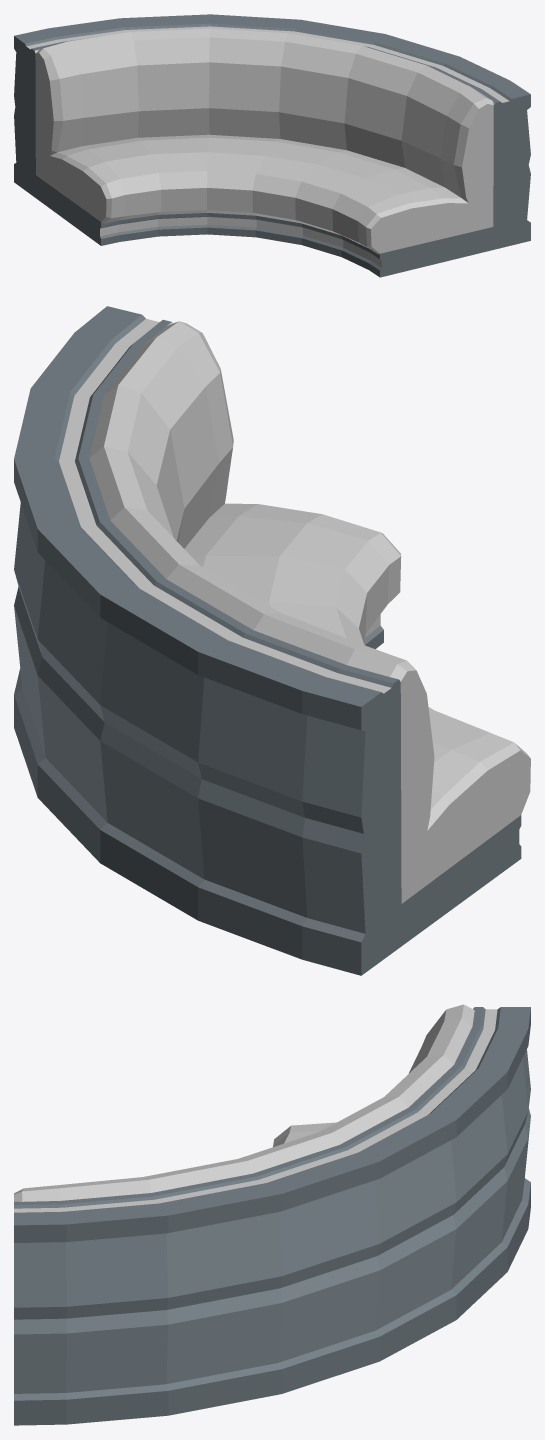
Rendered from SM_Prop_Sofa_02_Corner_04.fbx.
3 views of the same model, one above another, from view 1: azimuth 30°, elevation 25°; view 2: azimuth 150°, elevation 25°; view 3: azimuth 270°, elevation 25° (orthographic). The views are drawn at different scales.
Parts seen in each view (by area): view 1: SM_Prop_Sofa_02_Corner_04; view 2: SM_Prop_Sofa_02_Corner_04; view 3: SM_Prop_Sofa_02_Corner_04.
Part boxes in pixels (box(x1,y1,x2,y2)): SM_Prop_Sofa_02_Corner_04: box(14, 14, 530, 277); SM_Prop_Sofa_02_Corner_04: box(14, 306, 530, 975); SM_Prop_Sofa_02_Corner_04: box(14, 1004, 530, 1425).
Size of the model in its own units: 250 by 111 by 250.
